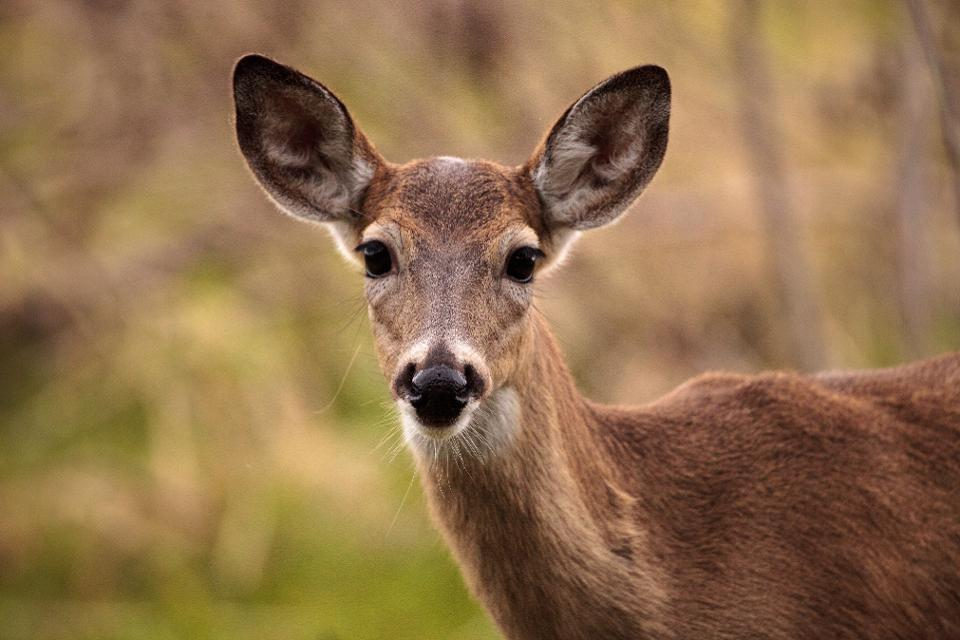Deer: (227, 48, 960, 635)
